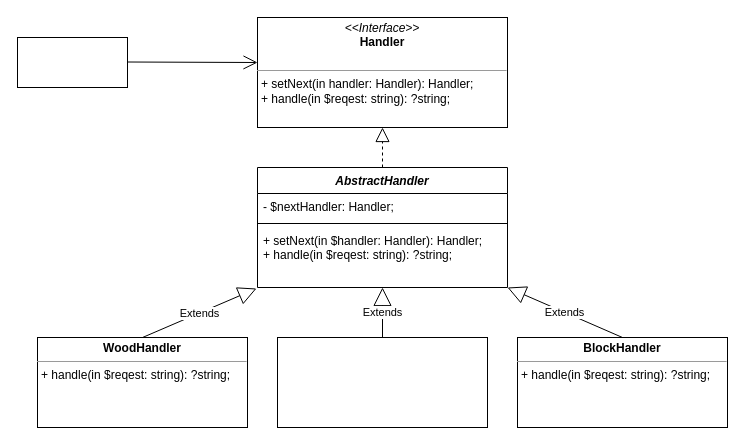
The diagram is 745 pixels wide and 445 high, and some of its shapes have lost their labels. The shapes that lost their labels are listed below. From the top down, each one's centre as x and y in pixels, then its label:
At (72,62): "clientCode".
At (382,382): "BrickHandler + handle(in $reqest: string): ?string;".
